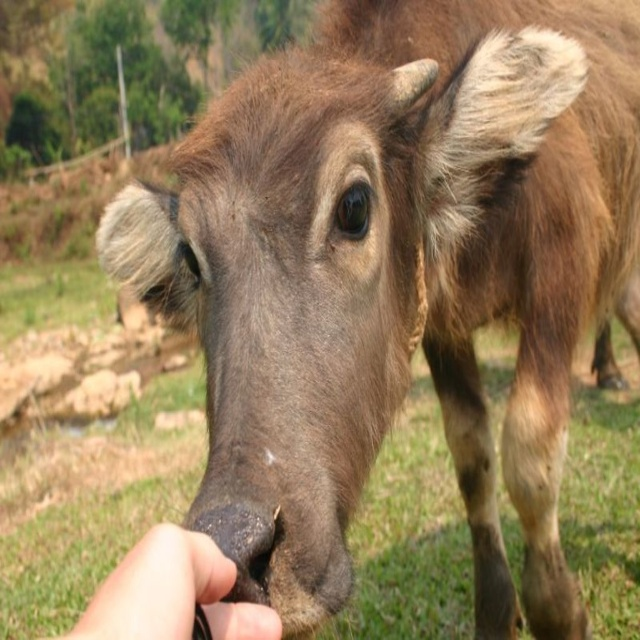Cattle: (94, 0, 640, 640)
